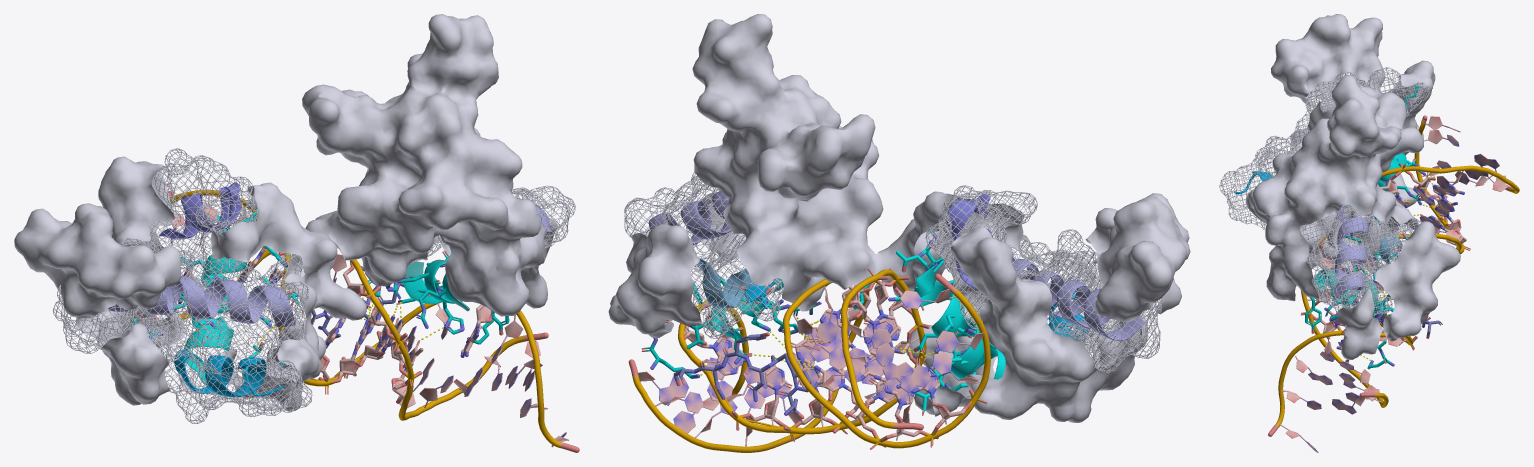
Rendered from scene-transformed-dna.glb.
3 renders of one model, left to right at view 1: azimuth 30°, elevation 25°; view 2: azimuth 150°, elevation 25°; view 3: azimuth 270°, elevation 25°, orthographic. The views are drawn at different scales.
Parts seen in each view (by area): view 1: geom22403-material; view 2: geom22403-material; view 3: geom22403-material.
Part boxes in pixels (bbox=[...]): geom22403-material: bbox=[14, 14, 579, 452]; geom22403-material: bbox=[608, 14, 1190, 452]; geom22403-material: bbox=[1219, 14, 1519, 452].
Bounding box in the file's own units: 79.62 × 61.99 × 49.42.
